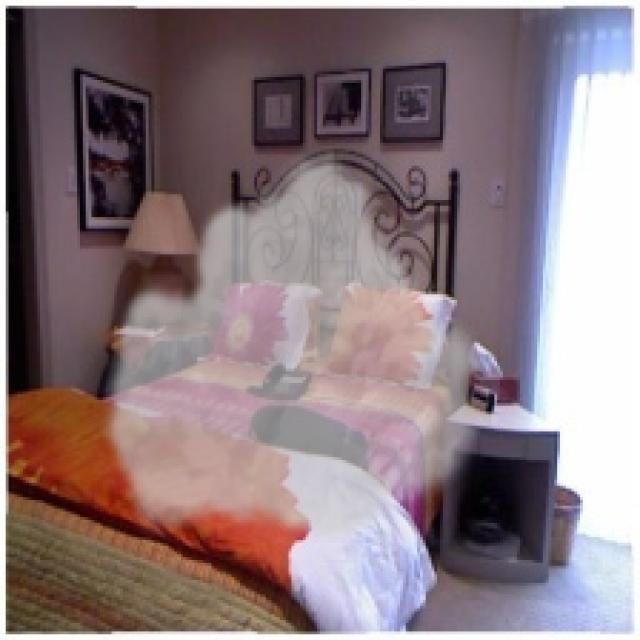smoke: (97, 145, 492, 546)
